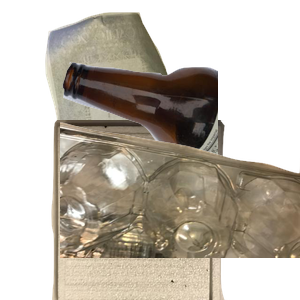glass: (60, 59, 300, 217)
paper: (43, 10, 221, 185)
plastic: (60, 120, 300, 300)
trash: (49, 120, 269, 300)
